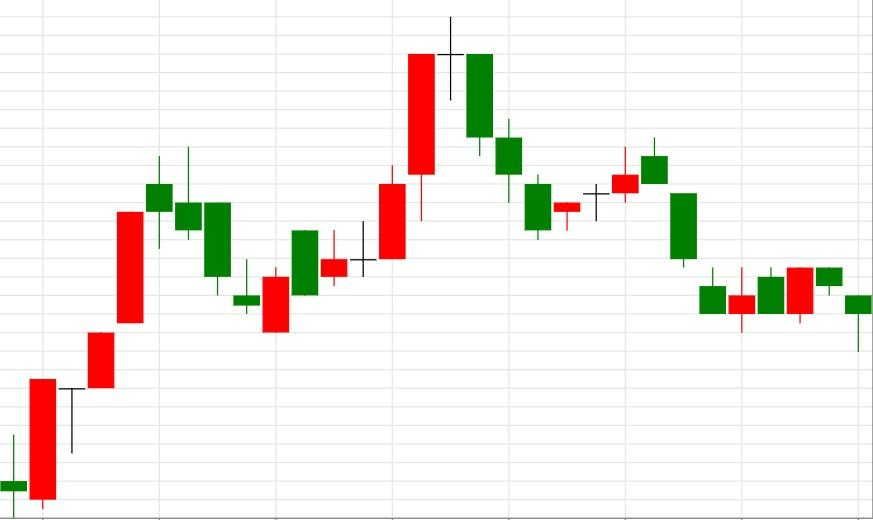bullish_engulfing_rise: (641, 136, 815, 333)
evening_star_fall: (262, 17, 493, 333)
three_black_crows_fall: (524, 137, 727, 315)
